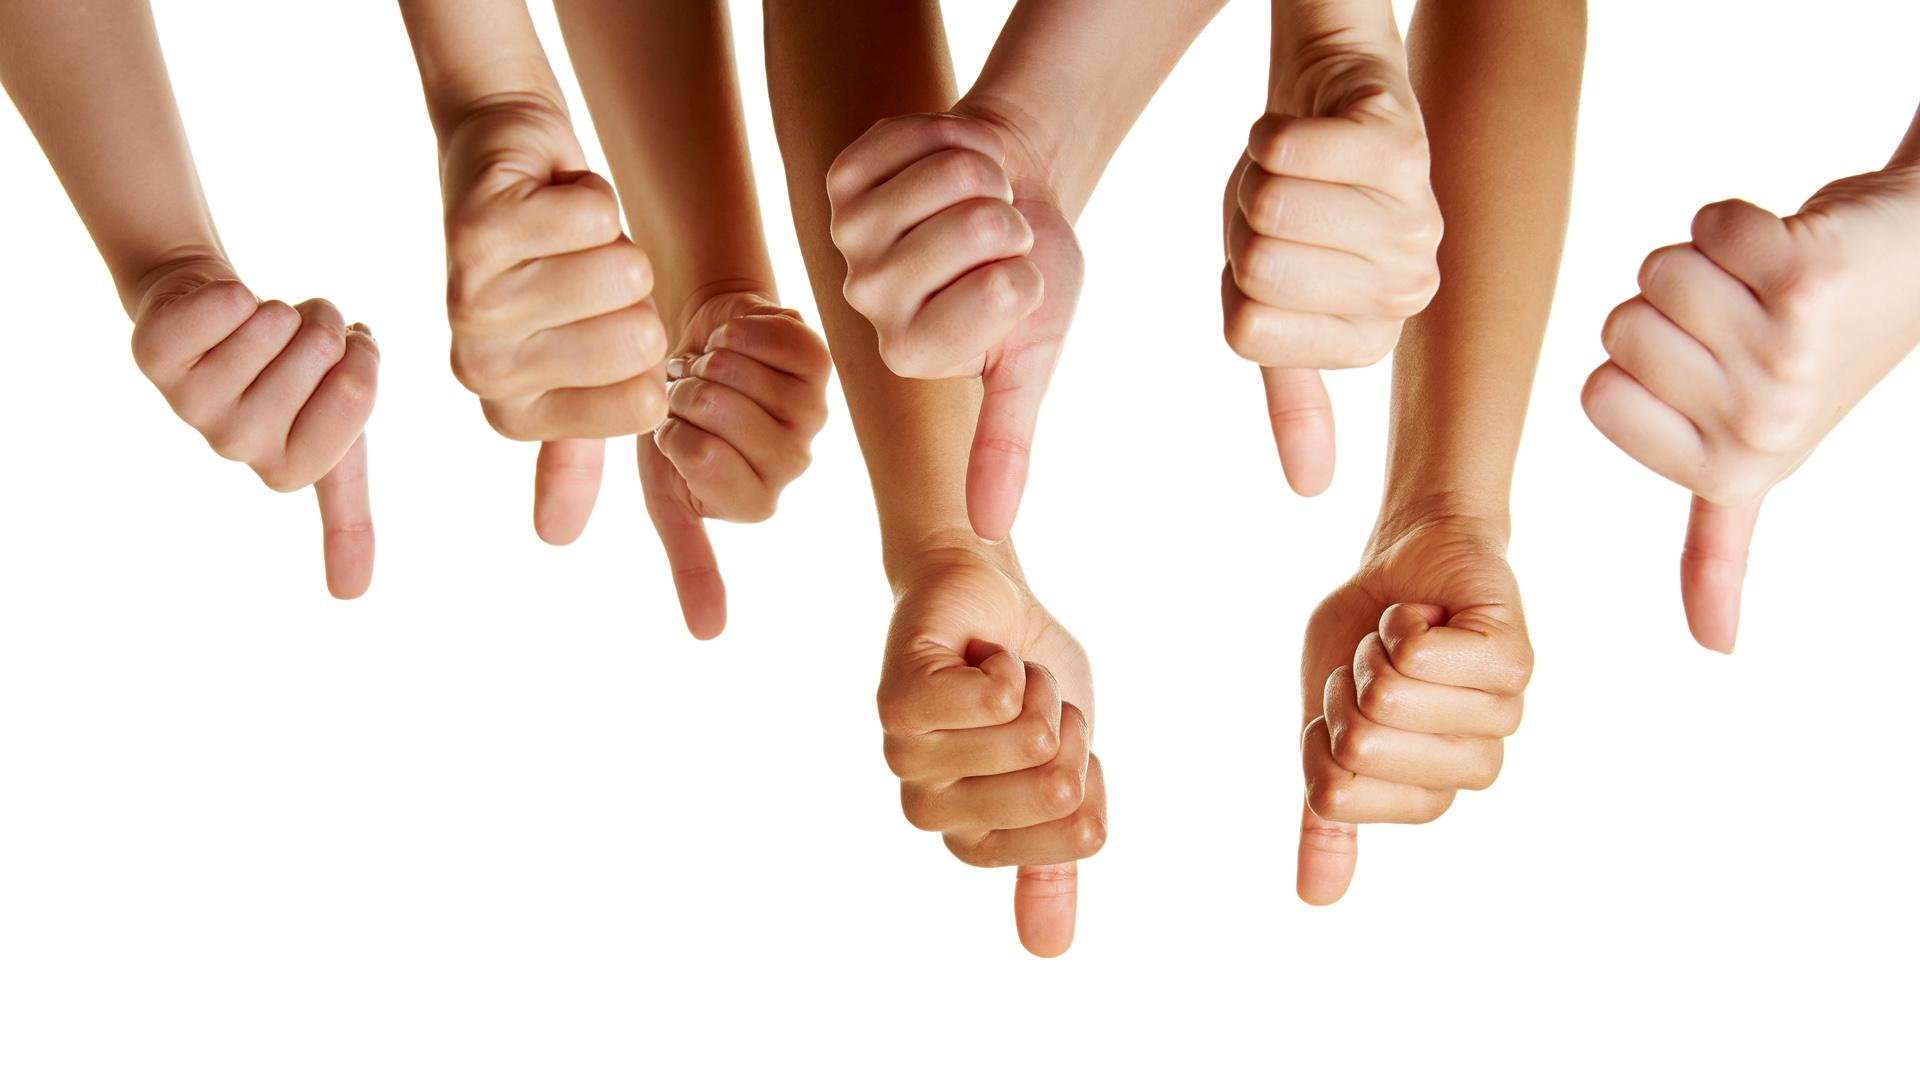thumbsdown: (1576, 181, 1840, 658), (823, 102, 1059, 546), (427, 131, 674, 551), (1213, 61, 1449, 500), (866, 564, 1112, 963), (129, 251, 385, 611), (1290, 541, 1538, 907), (634, 301, 835, 644)
